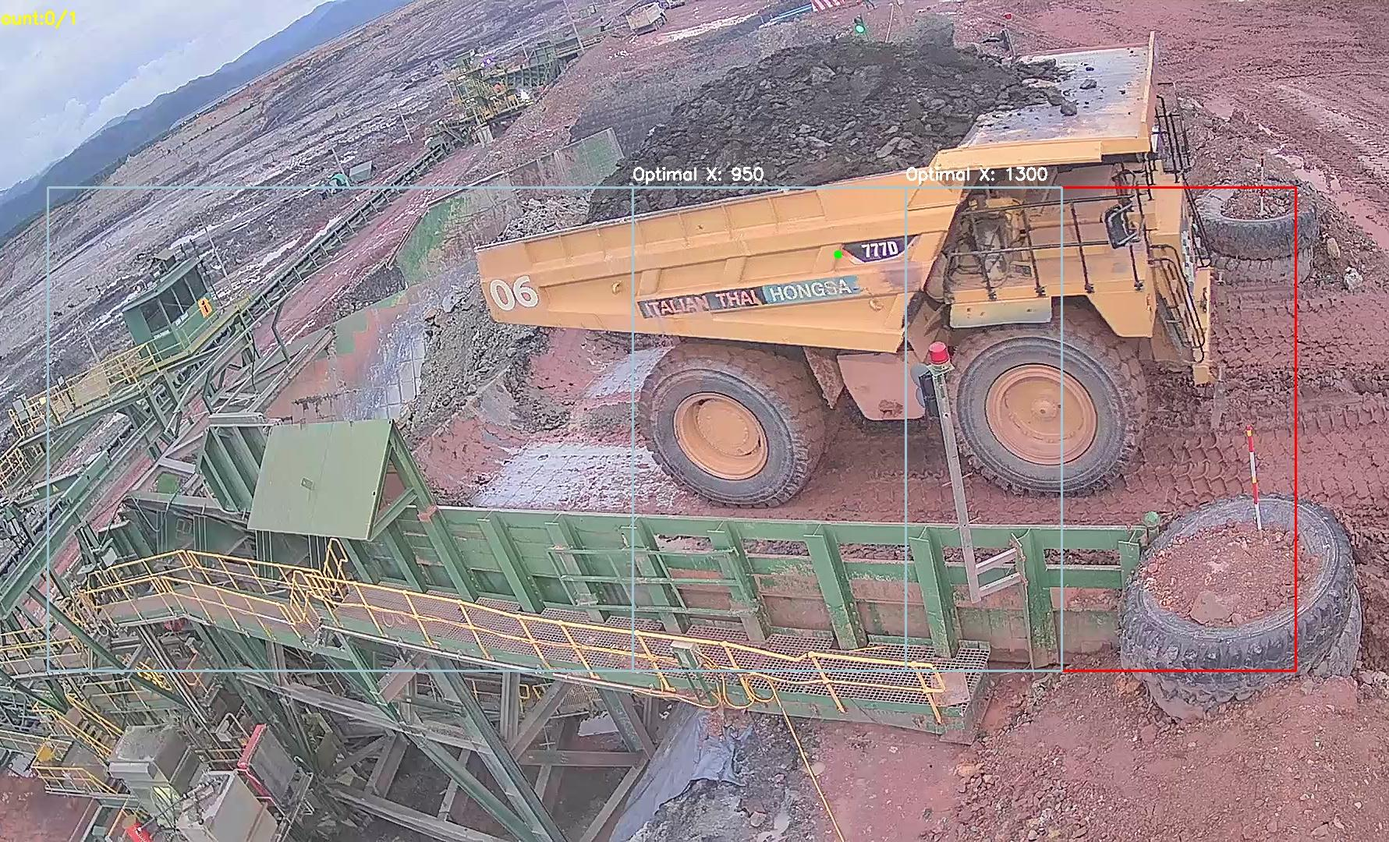company: (627, 274, 868, 322)
full_load: (572, 30, 977, 213)
mining_truck: (457, 19, 1236, 507)
tail_number: (480, 268, 549, 325)
truck_size: (836, 232, 921, 266)
